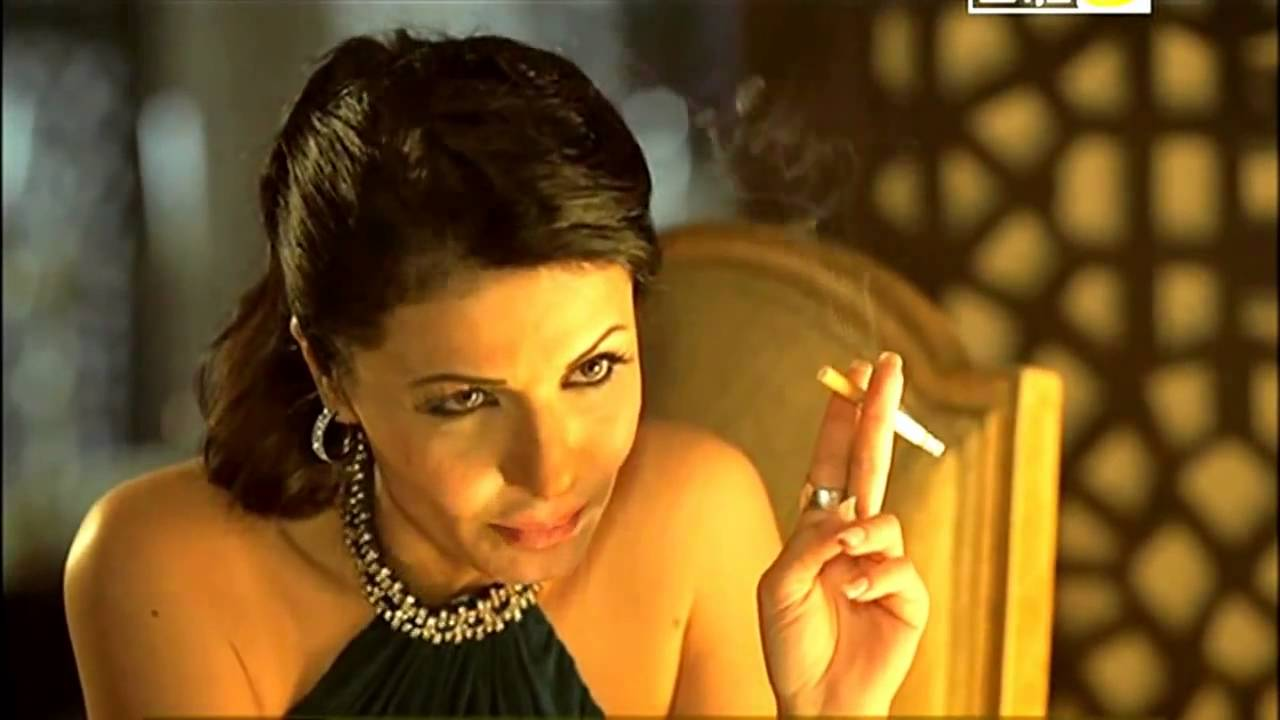cigarette: (799, 350, 961, 477)
